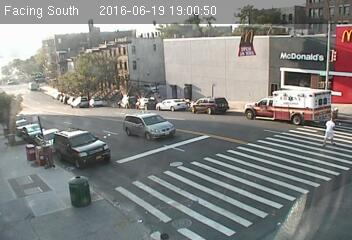neg: (134, 162, 156, 193), (73, 176, 95, 206), (111, 41, 133, 71), (73, 61, 95, 91), (36, 144, 56, 171), (270, 44, 290, 71), (317, 48, 337, 75), (211, 98, 231, 124), (160, 203, 178, 228), (199, 166, 217, 190), (23, 186, 41, 210), (76, 130, 93, 154), (38, 73, 55, 96), (183, 54, 200, 76), (241, 156, 258, 178), (123, 111, 139, 132), (239, 32, 254, 52), (168, 85, 182, 103)
pos: (321, 114, 345, 145)
